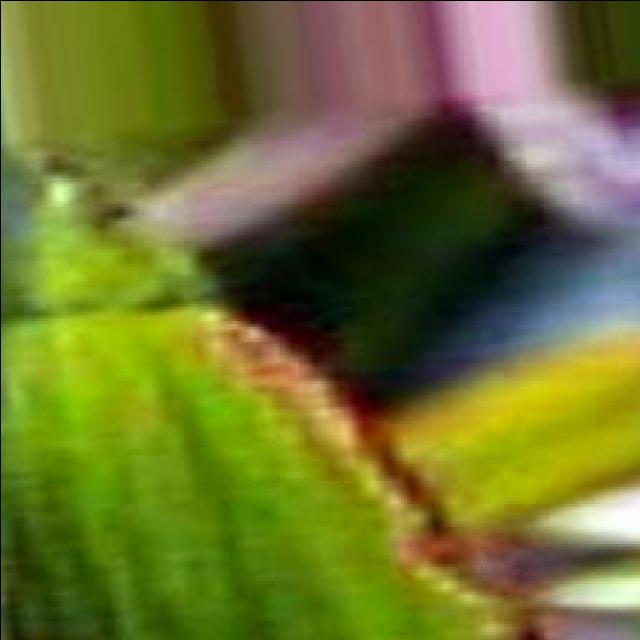Unhealthy: (213, 308, 517, 628)
